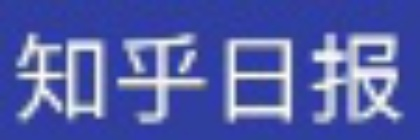TextView: (1, 1, 419, 139)
